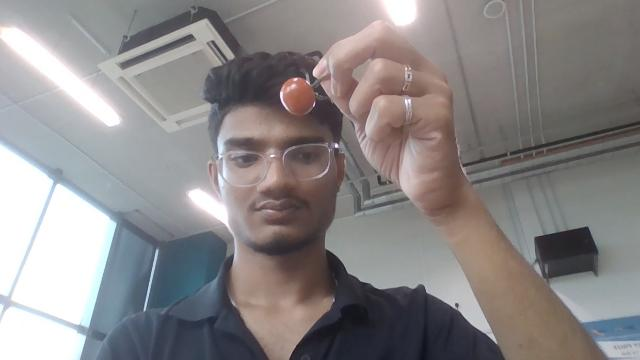Fully Grown: (279, 76, 316, 117)
